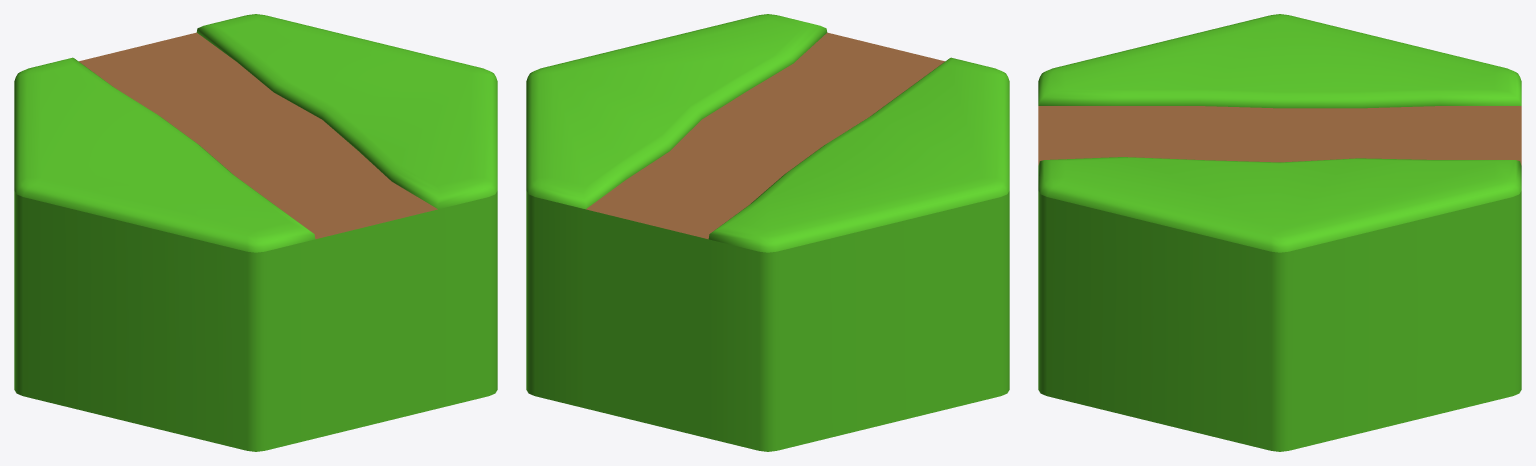
Rendered from Tile_Green_Path_Straight.fbx.
The picture shows the model from 3 angles, left to right: view 1: azimuth 30°, elevation 25°; view 2: azimuth 150°, elevation 25°; view 3: azimuth 270°, elevation 25°; orthographic projection.
Visible parts, largest first — view 1: Tile_Green_Path_Straight; view 2: Tile_Green_Path_Straight; view 3: Tile_Green_Path_Straight.
Boxes of the visible parts, x1,y1,x2,y2 form: Tile_Green_Path_Straight: (14, 14, 497, 451); Tile_Green_Path_Straight: (526, 14, 1009, 451); Tile_Green_Path_Straight: (1038, 14, 1521, 451).
Bounding box in the file's own units: 9302 × 3894 × 8129.
